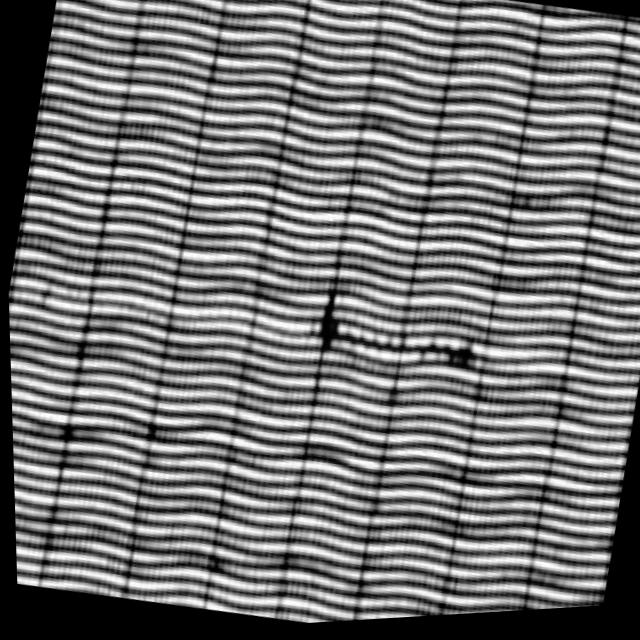Stitch: (297, 277, 497, 406)
